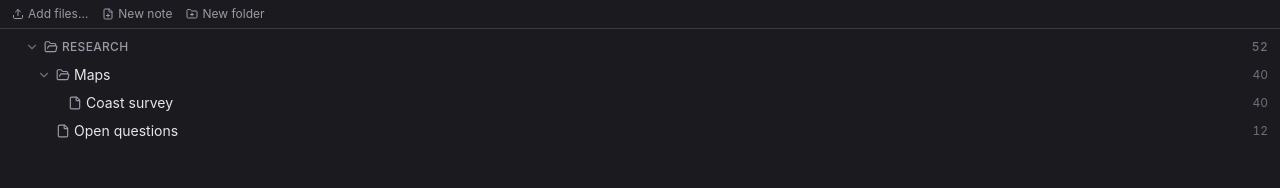
Scenario: the Manuscript tree and the Research tab (F-16.8) › shows the Research root alone in the Research tab, with no compile tick in its menu
The width and height of the screenshot is (1280, 188).
Check: the list item "Research" is shown, box 4,33 -> 1276,145
Right-click the element showing "Open questions 12" at (126, 130), box 4,117 -> 1276,145
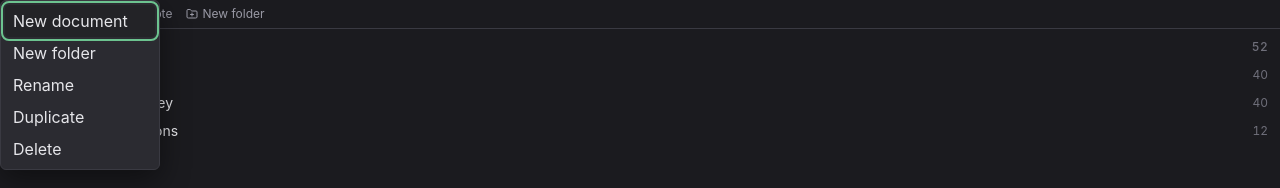
Check: the menu item "New document" is shown, box 5,5 -> 155,37
